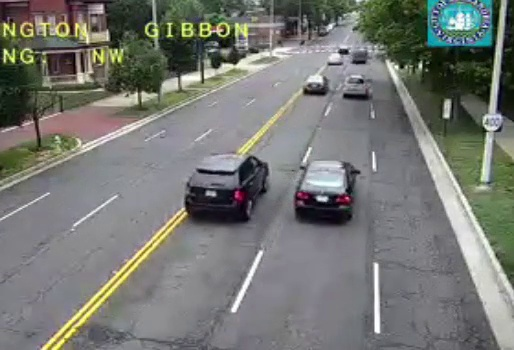car: (183, 153, 269, 218), (293, 159, 355, 216), (341, 75, 367, 96), (302, 75, 329, 94)
